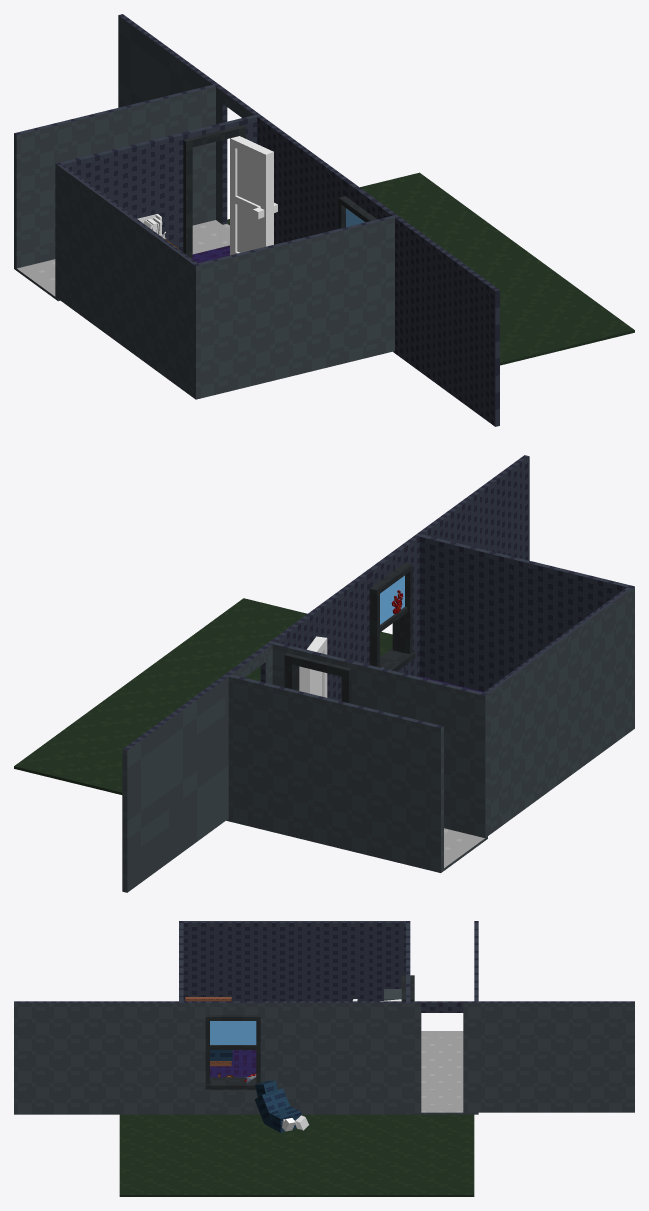
Rendered from full_room.gltf.
The picture shows the model from 3 angles, top to bottom: view 1: azimuth 30°, elevation 25°; view 2: azimuth 150°, elevation 25°; view 3: azimuth 270°, elevation 25°; orthographic projection. The views are drawn at different scales.
Visible parts, largest first — view 1: wall (×8), floor (×2), door, door_frame; view 2: wall (×9), floor (×2), window_frame, door_frame, door, inner_window; view 3: wall (×11), floor (×3), window_frame, blanket, outer_window, bed.
Boxes of the visible parts, x1,y1,x2,y2 form: wall (×8): (14, 14, 499, 426); floor (×2): (14, 172, 634, 365); door: (230, 136, 273, 255); door_frame: (183, 125, 245, 259); wall (×9): (122, 455, 634, 892); floor (×2): (14, 598, 487, 872); window_frame: (369, 562, 415, 671); door_frame: (284, 653, 351, 703); door: (299, 636, 327, 697); inner_window: (380, 575, 407, 632); wall (×11): (14, 921, 634, 1114); floor (×3): (119, 1031, 478, 1196); window_frame: (205, 1015, 260, 1089); blanket: (254, 1080, 301, 1132); outer_window: (210, 1021, 256, 1049); bed: (185, 997, 232, 1066).
Bounding box in the file's own units: 10.88 × 3.56 × 17.62.
Materials: 21 (16 with a texture image).
